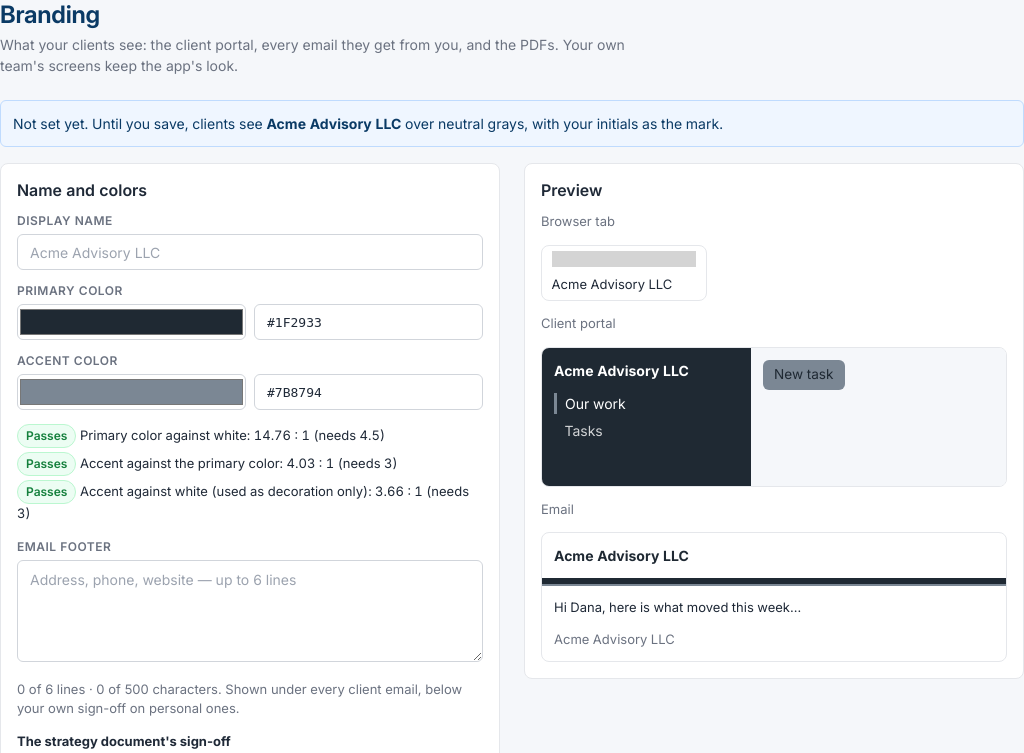
Test: Settings → Branding (P1) › saves Executives Now's colors with the orange marked decoration only
Expected: the text "Not set yet" is shown, [13, 115, 266, 132]
In the field named "Display name": (250, 252) [17, 234, 483, 270], type "Executives Now"
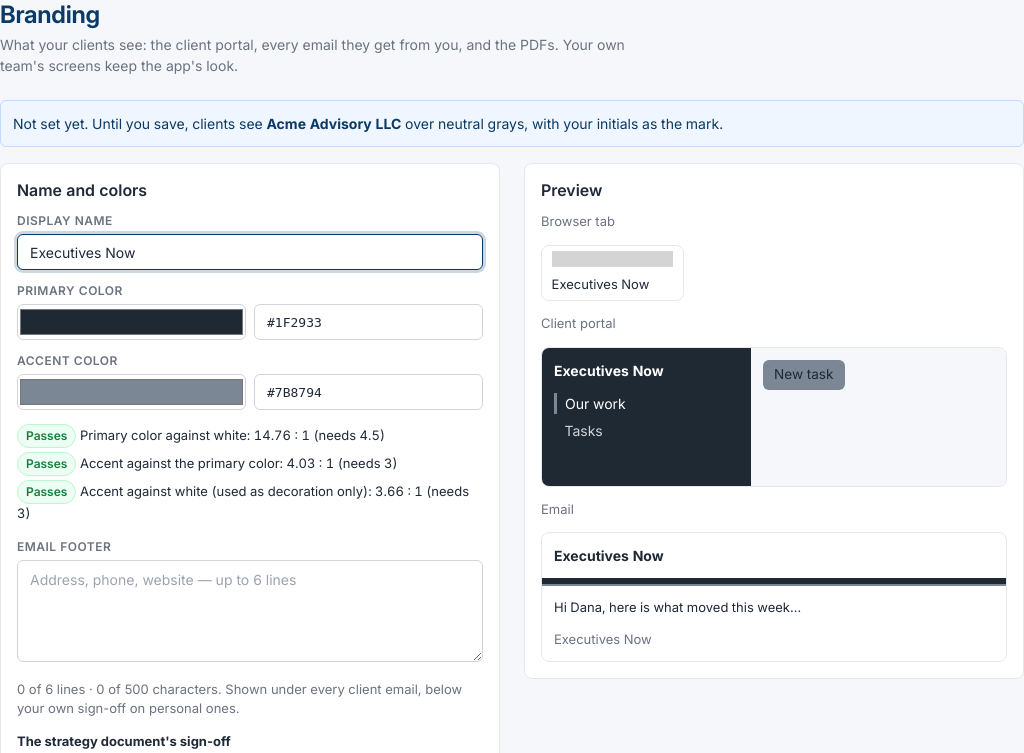
Replace the text in the field named "Primary color" with "#0A3A65": (368, 322) [254, 304, 483, 340]
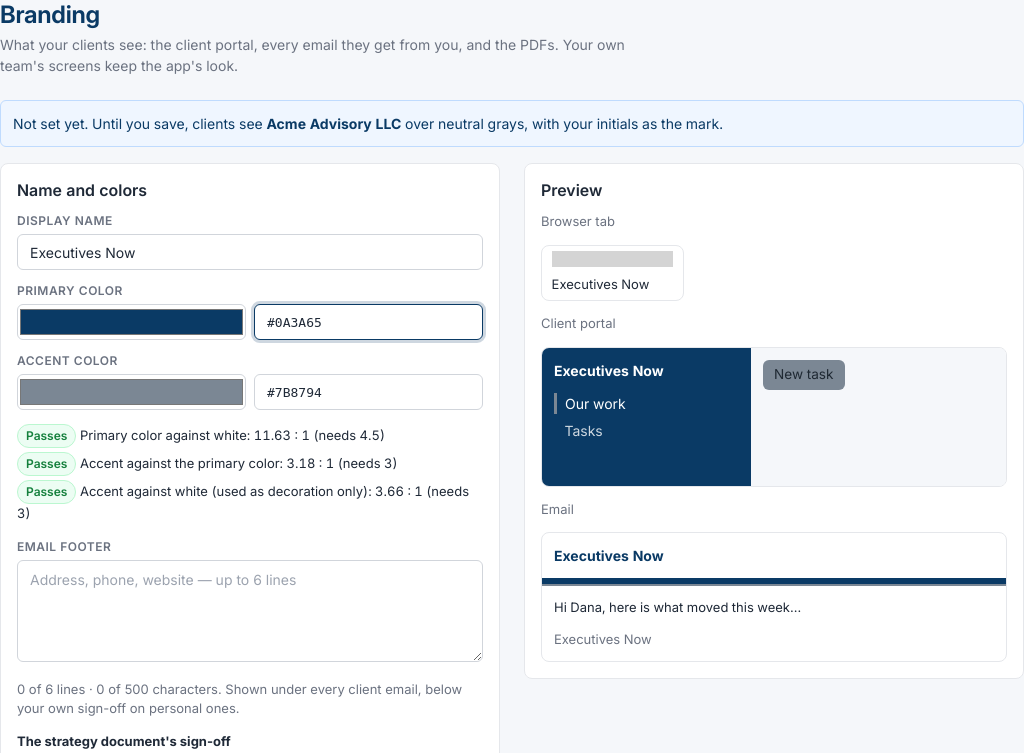
Replace the text in the field named "Accent color" with "#F58220": (368, 392) [254, 374, 483, 410]
(page scrolled)
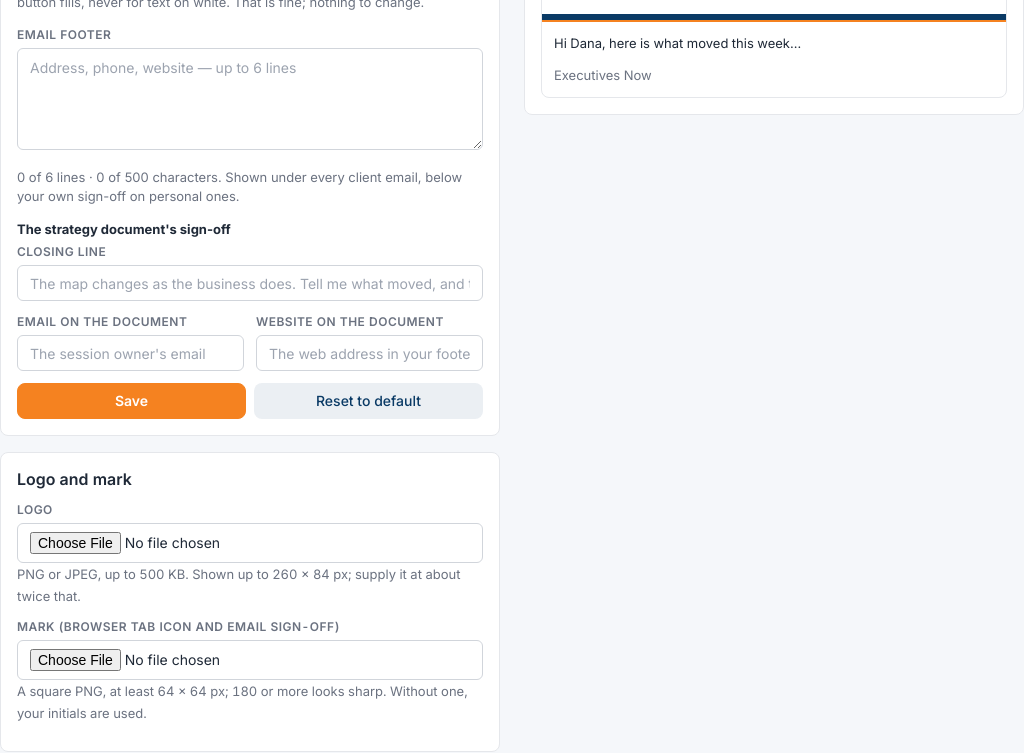
Click the button "Save": (132, 401) [17, 383, 246, 419]
(page scrolled)
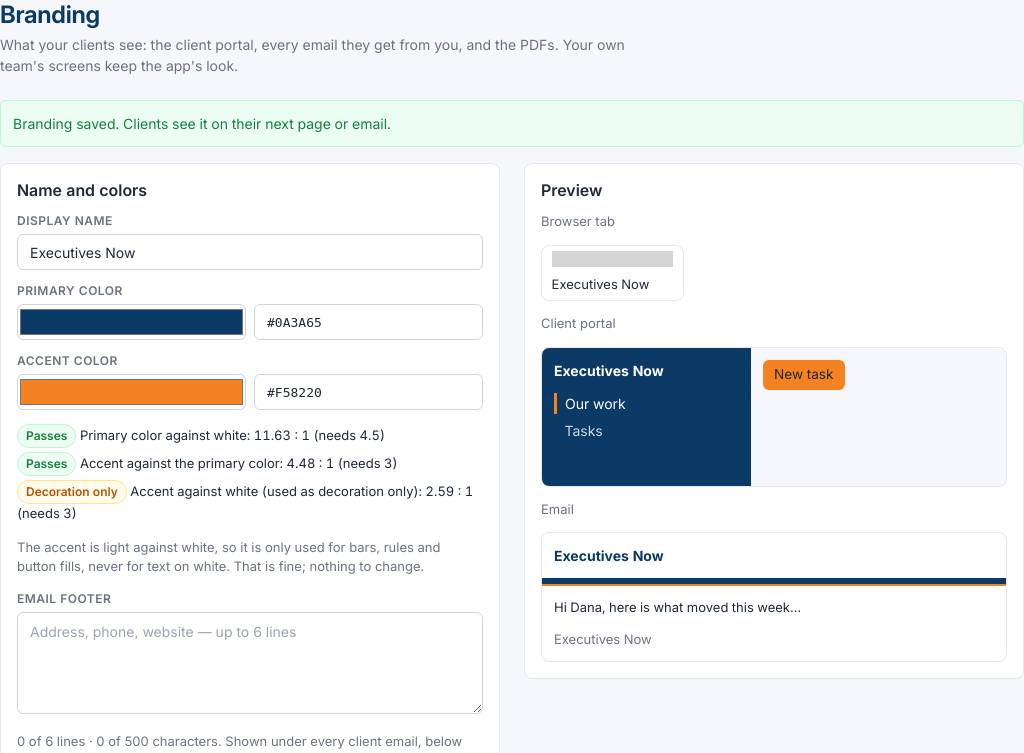
Now the text "Branding saved. Clients see it on their next page or email." is shown, box [13, 115, 391, 132]
